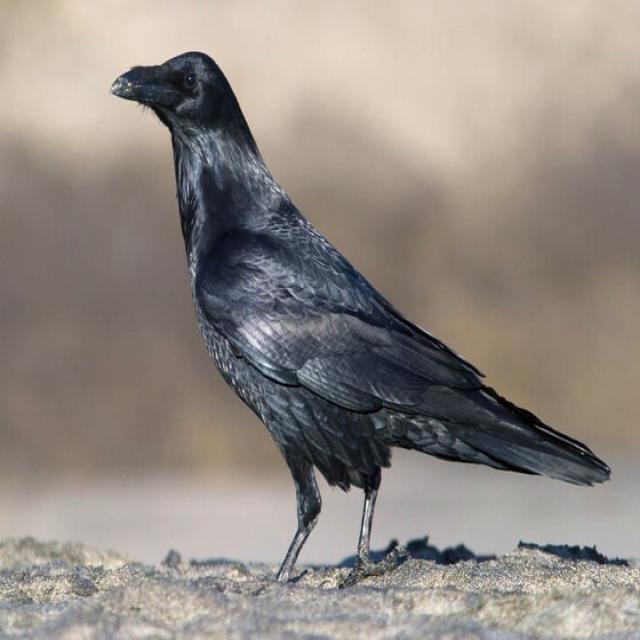crow: (112, 52, 611, 585)
